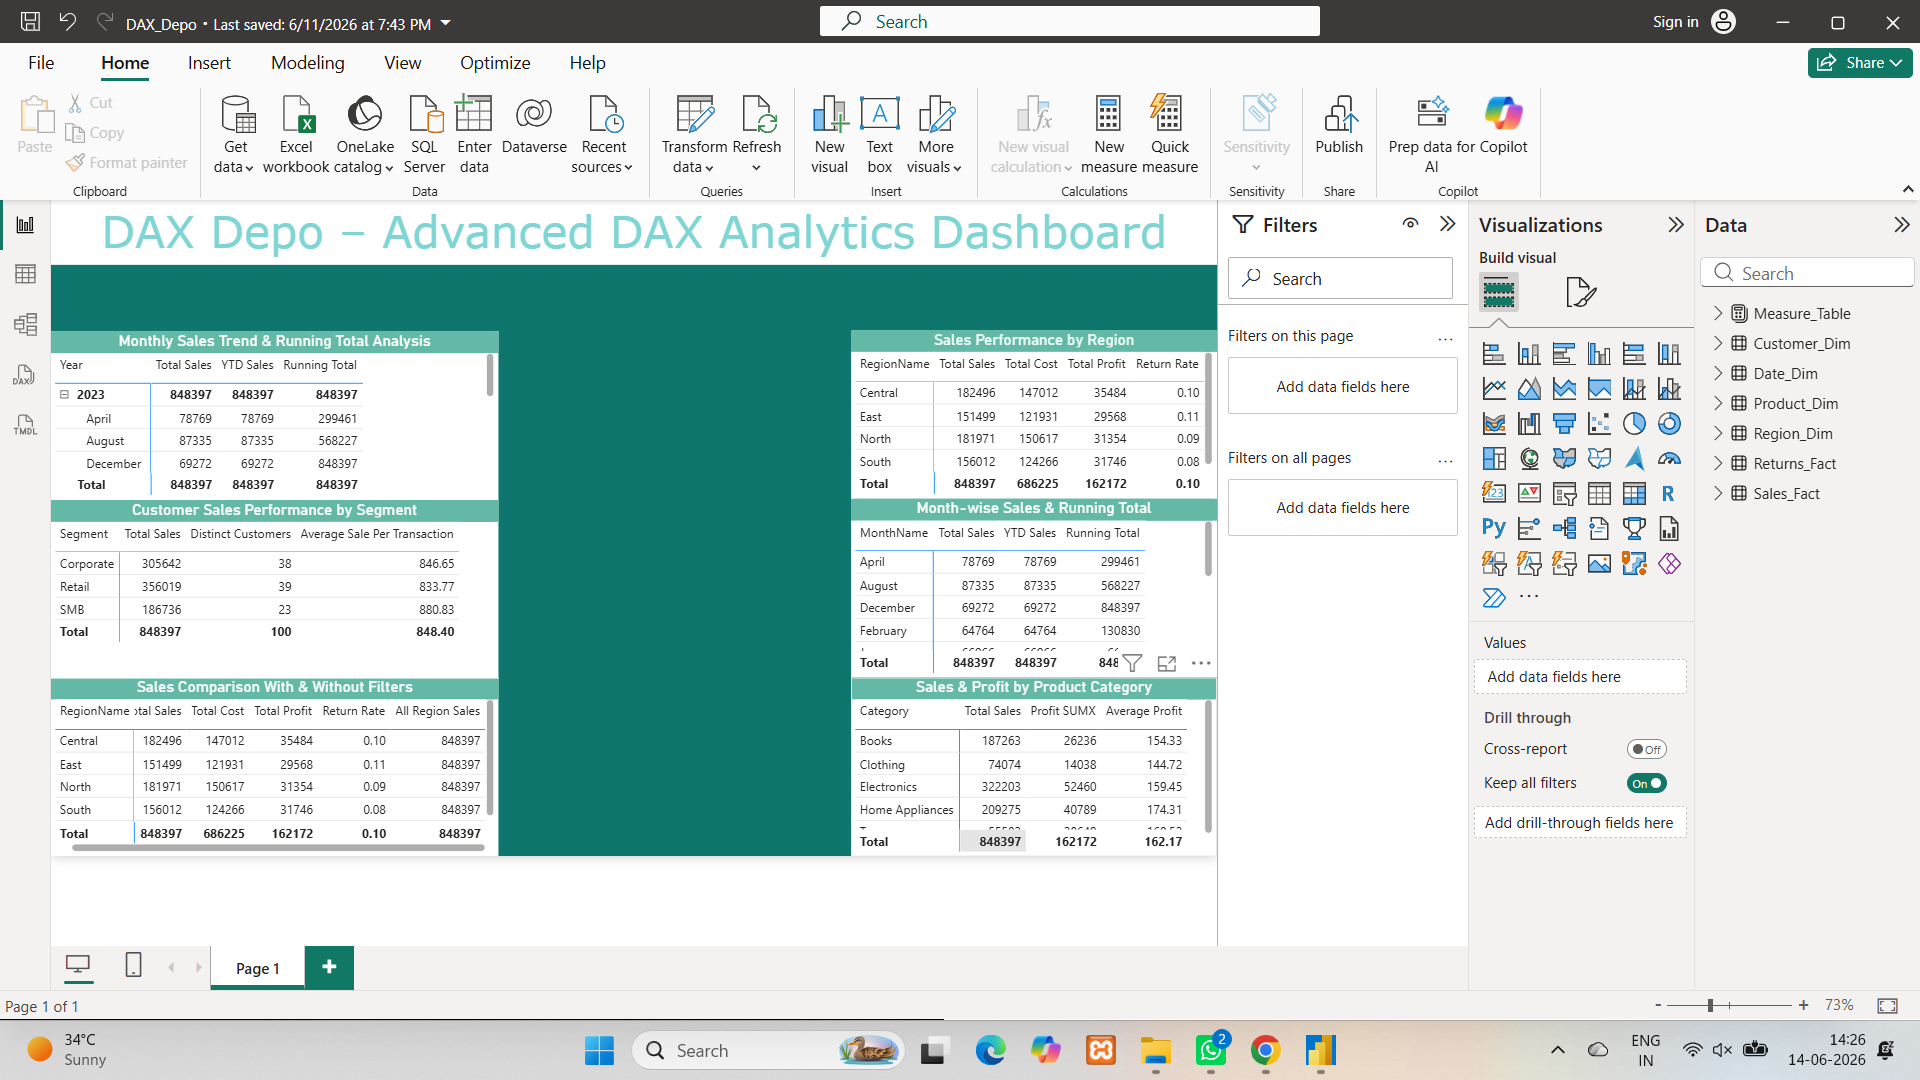

The dashboard page shown, as its layout file describes it:
{"tool":"powerbi","page":{"name":"Page 1","canvas":[1280,720],"ordinal":0},"visuals":[{"type":"pivotTable","fields":{"Rows":["Region_Dim.RegionName"],"Values":["Measure_Table.Total Sales","Measure_Table.Total Cost","Measure_Table.Total Profit","Measure_Table.Return Rate"]},"box":[9.6,0,446,196.2],"z":0},{"type":"pivotTable","fields":{"Rows":["Date_Dim.Year","Date_Dim.MonthName"],"Values":["Measure_Table.Total Sales","Measure_Table.YTD Sales","Measure_Table.Running Total"]},"box":[9.6,237.4,446,196.2],"z":1},{"type":"pivotTable","fields":{"Rows":["Region_Dim.RegionName"],"Values":["Measure_Table.Total Sales","Measure_Table.Total Cost","Measure_Table.Total Profit","Measure_Table.Return Rate","Measure_Table.All Region Sales"]},"box":[9.6,467.9,536.5,196.2],"z":2},{"type":"pivotTable","fields":{"Rows":["Date_Dim.MonthName"],"Values":["Measure_Table.Total Sales","Measure_Table.YTD Sales","Measure_Table.Running Total"]},"box":[474,0,446,196],"z":3},{"type":"pivotTable","fields":{"Rows":["Product_Dim.Category"],"Values":["Measure_Table.Total Sales","Measure_Table.Profit SUMX","Measure_Table.Average Profit"]},"box":[474,237,446,196],"z":4},{"type":"pivotTable","fields":{"Rows":["Customer_Dim.Segment"],"Values":["Measure_Table.Total Sales","Measure_Table.Distinct Customers","Measure_Table.Average Sale Per Transaction"]},"box":[547.5,467.9,478.9,196.2],"z":5}]}

Visuals, with their boxes on the page's 1280x720 design canvas (x1, y1, x2, y2). These are canvas units, not pixel positions in the 1920x1080 screenshot, which may show the page scaled, cropped or inside an application window:
pivotTable - Region_Dim.RegionName x Measure_Table.Total Sales: 10,0,456,196
pivotTable - Date_Dim.Year x Date_Dim.MonthName: 10,237,456,434
pivotTable - Region_Dim.RegionName x Measure_Table.Total Sales: 10,468,546,664
pivotTable - Date_Dim.MonthName x Measure_Table.Total Sales: 474,0,920,196
pivotTable - Product_Dim.Category x Measure_Table.Total Sales: 474,237,920,433
pivotTable - Customer_Dim.Segment x Measure_Table.Total Sales: 548,468,1026,664
